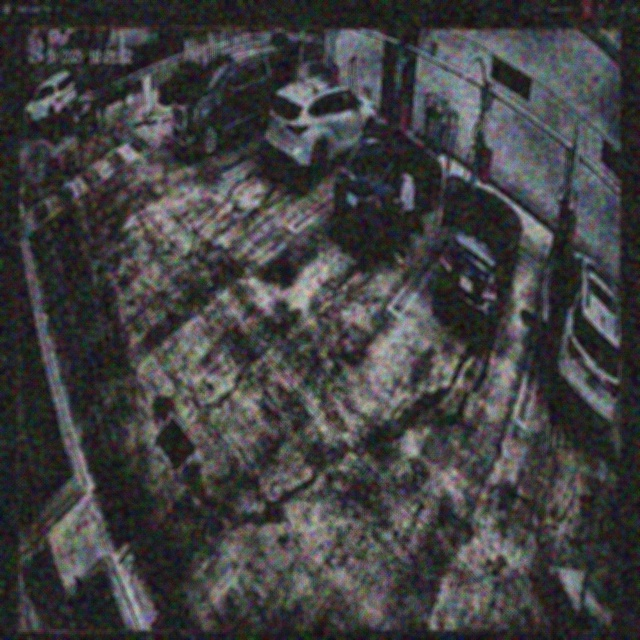Car: (437, 171, 523, 329), (335, 126, 444, 237), (268, 75, 378, 170)
